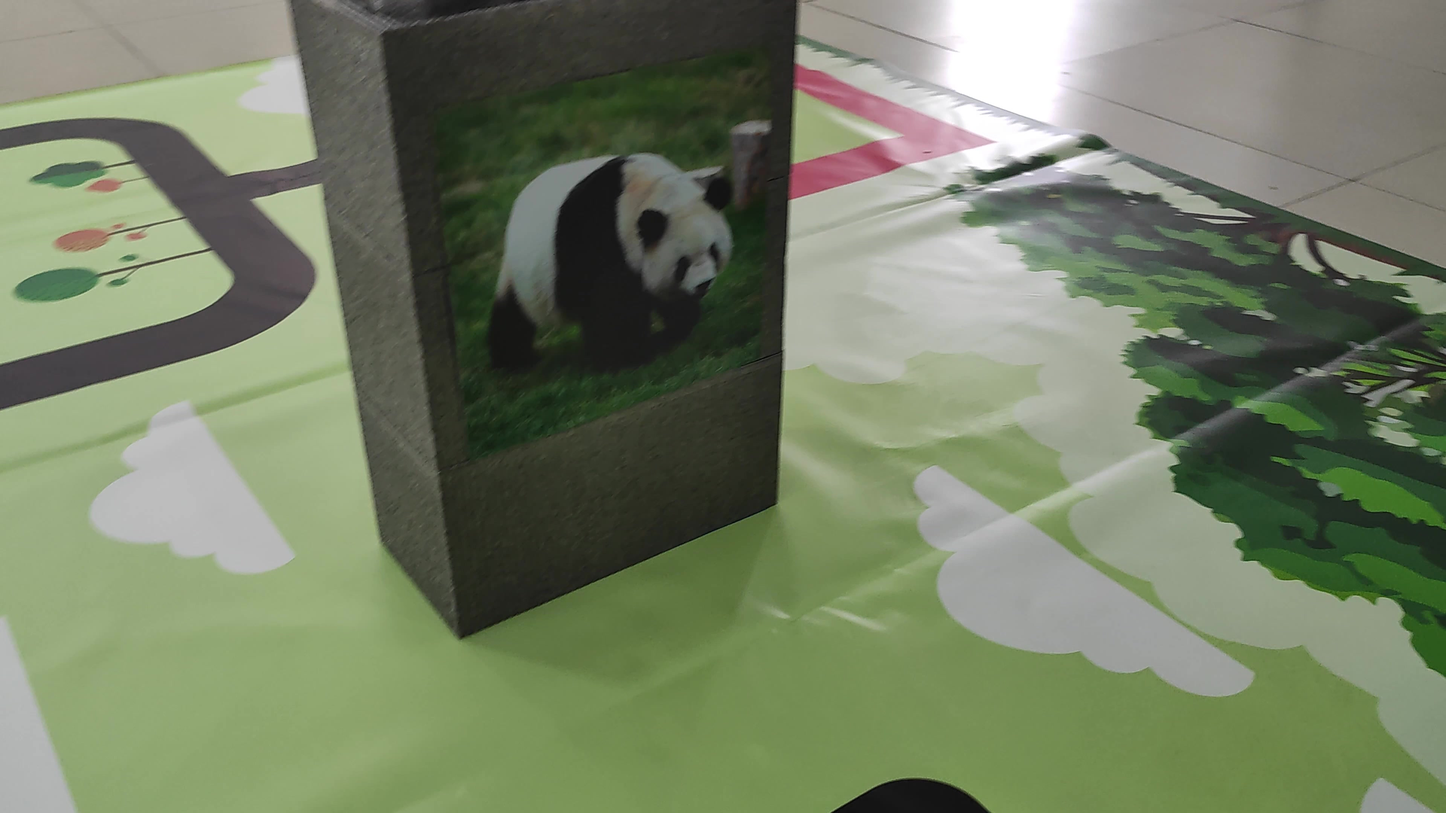panda: (467, 143, 757, 365)
